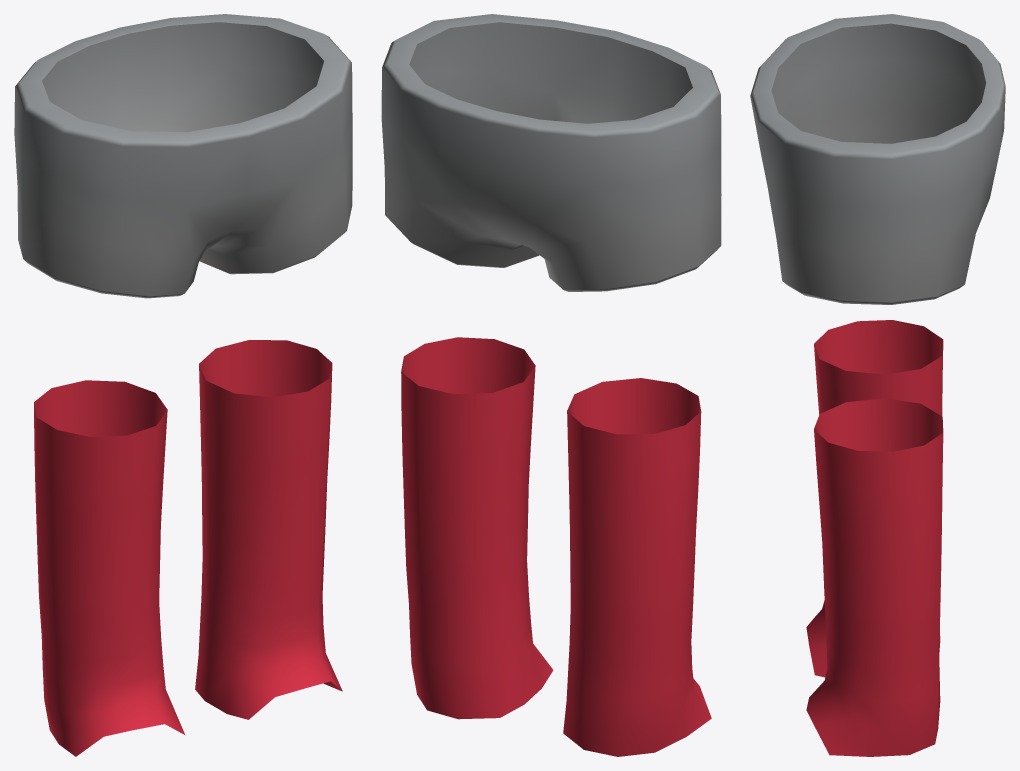
Rendered from Pants_008.glb.
3 views of the same model, side by side, from view 1: azimuth 30°, elevation 25°; view 2: azimuth 150°, elevation 25°; view 3: azimuth 270°, elevation 25° (orthographic). The views are drawn at different scales.
Parts seen in each view (by area): view 1: Socks_008; view 2: Socks_008; view 3: Socks_008.
Boxes of the visible parts, x1,y1,x2,y2 form: Socks_008: [14, 14, 352, 756]; Socks_008: [381, 14, 721, 756]; Socks_008: [750, 14, 1005, 756].
Bounding box in the file's own units: 0.3815 × 0.7578 × 0.2845.
Materials: 1 (1 with a texture image).
